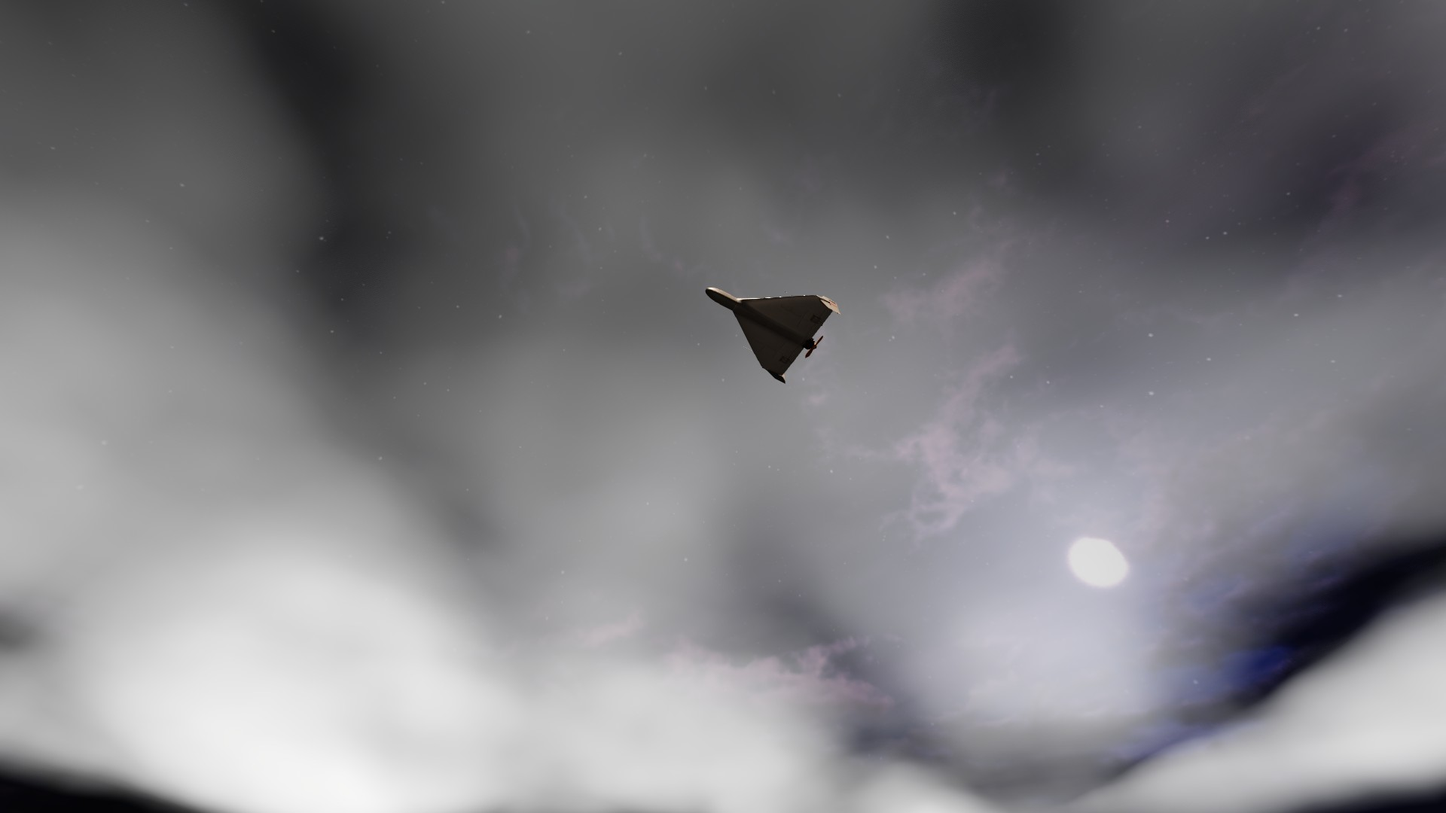shahed: (705, 288, 840, 384)
